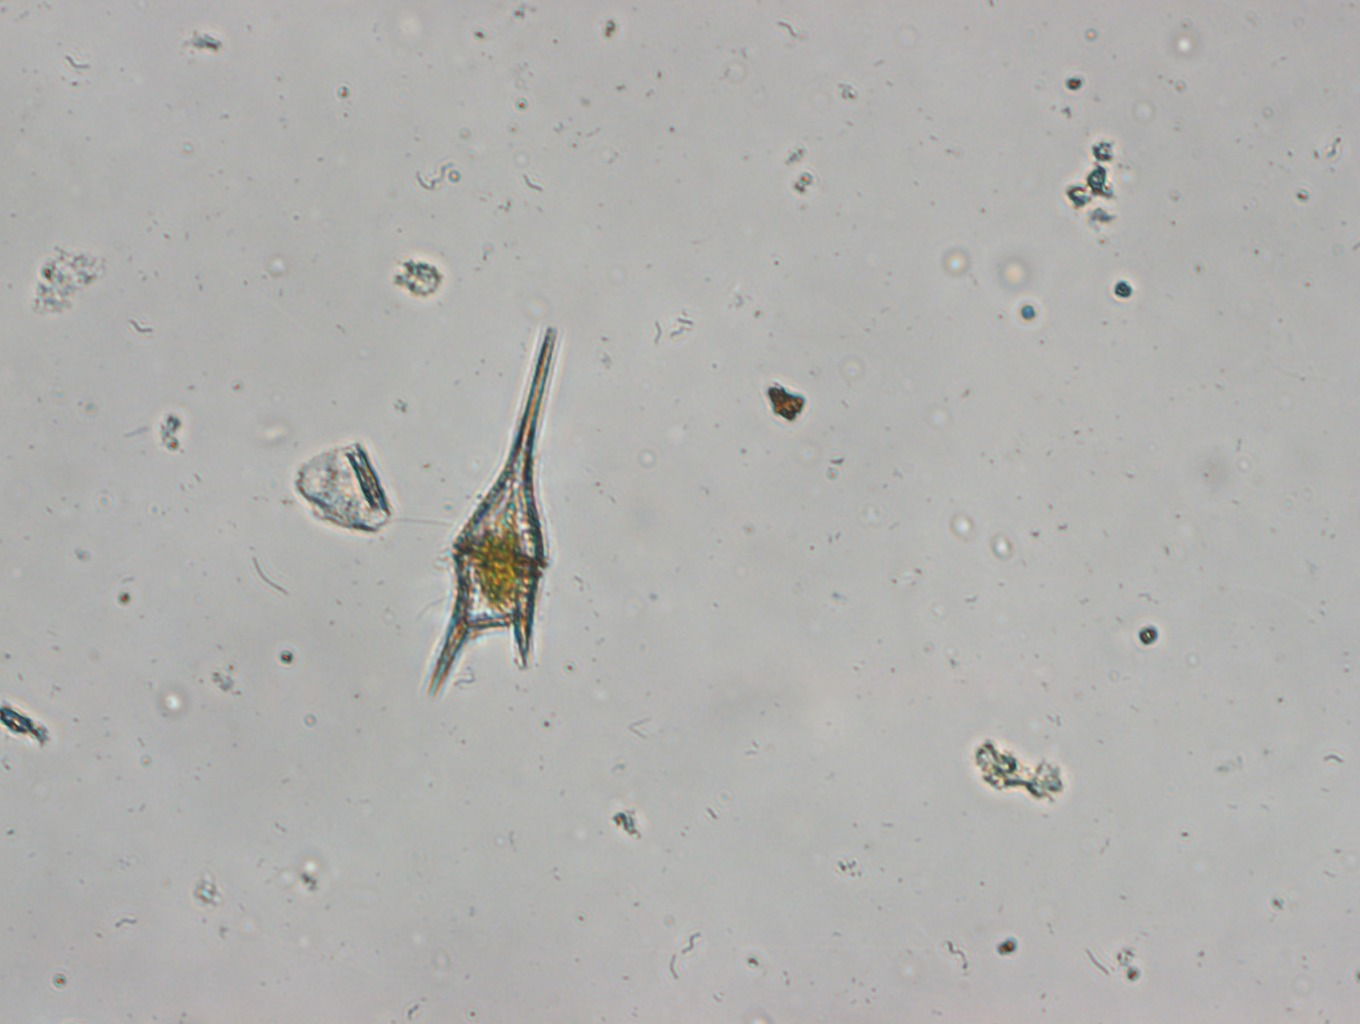ceratium furca: (423, 319, 561, 697)
